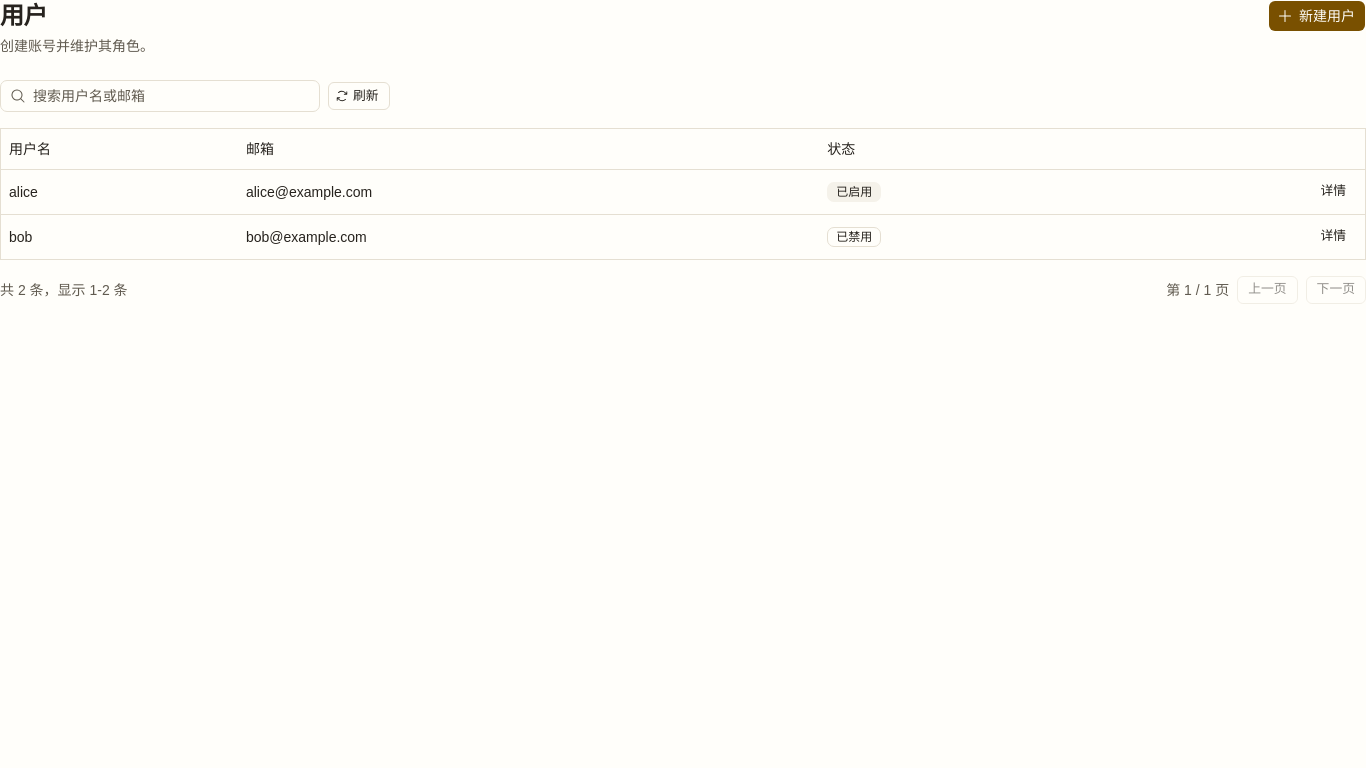
Test: UsersPage › shows the user detail sheet with the selected account
Expected: the text "bob" is shown, [9,228,32,244]
Step 1. Click the button "详情" in the row of "bob@example.com" → {"x": 1333, "y": 236}, box [1309,222,1357,250]
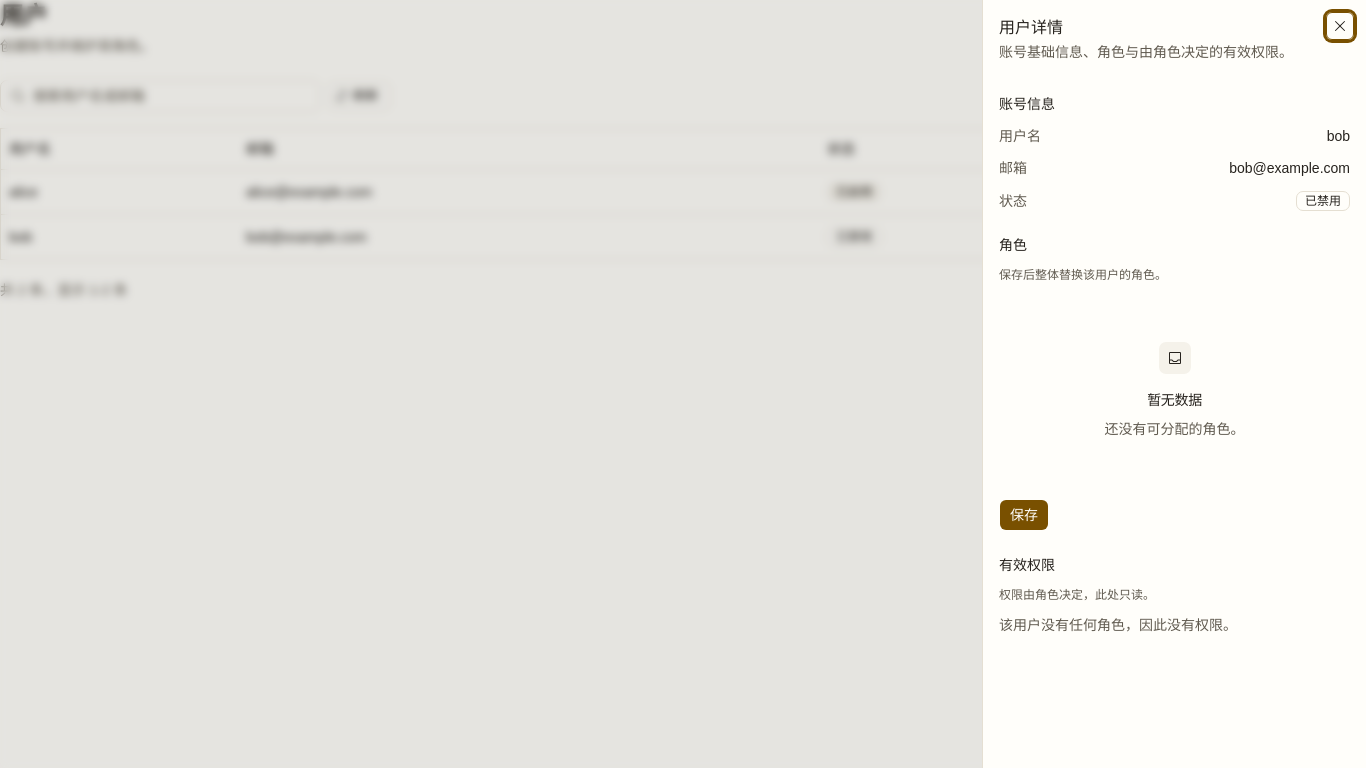
Now the text "bob@example.com" is shown, box [1229,158,1350,178]
Now the icon "已禁用" is shown, box [1296,191,1350,211]
